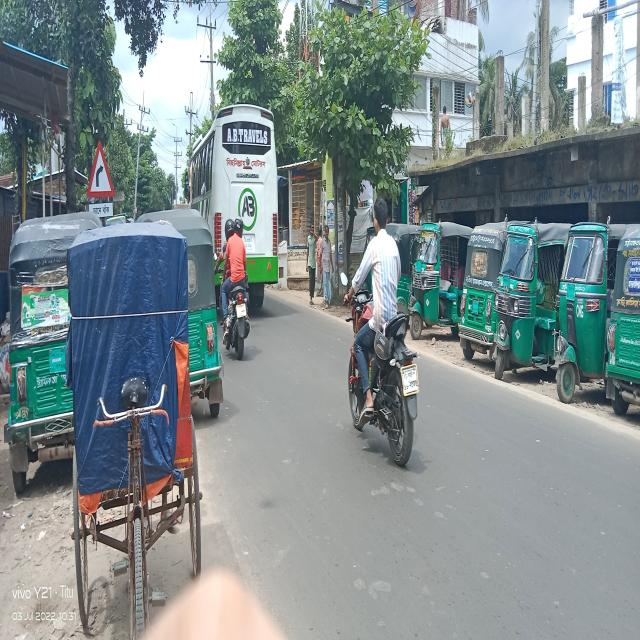bus: (207, 99, 284, 287)
